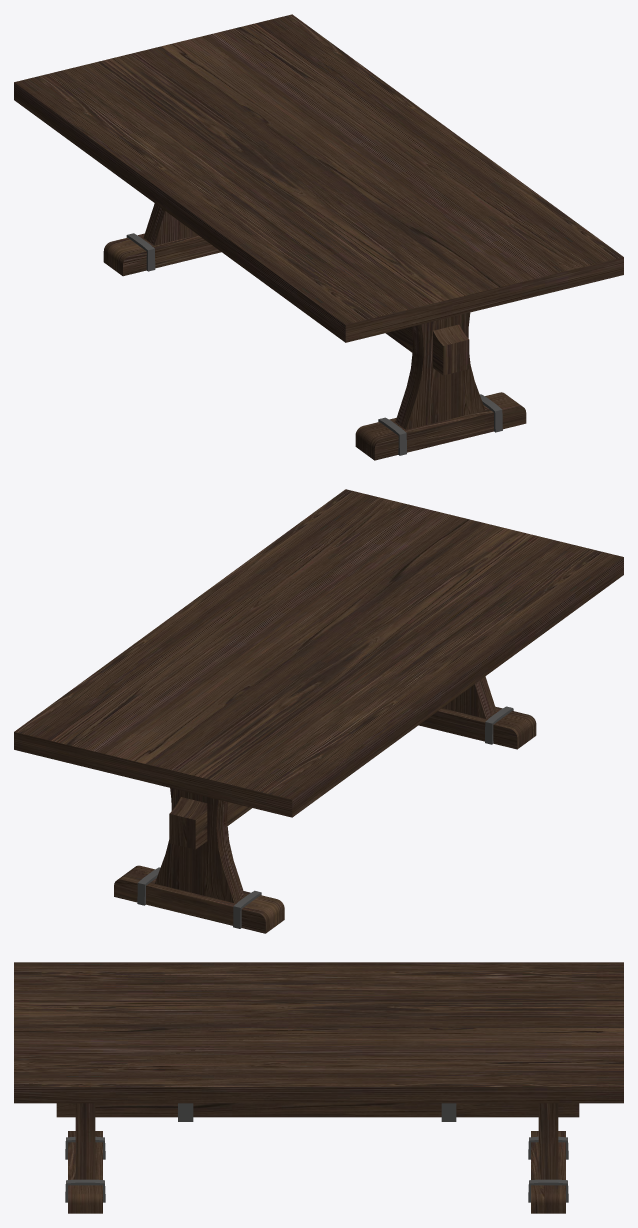
Rendered from F_Desk_01.fbx.
The picture shows the model from 3 angles, top to bottom: view 1: azimuth 30°, elevation 25°; view 2: azimuth 150°, elevation 25°; view 3: azimuth 270°, elevation 25°; orthographic projection. The views are drawn at different scales.
Parts seen in each view (by area): view 1: F_Desk; view 2: F_Desk; view 3: F_Desk.
Part boxes in pixels (box(x1,y1,x2,y2)): F_Desk: box(14, 14, 623, 460); F_Desk: box(14, 489, 623, 933); F_Desk: box(14, 962, 623, 1213).
Size of the model in its own units: 127 by 74.8 by 263.
1 material, 1 textured.
